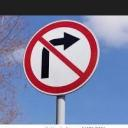NoVirarDireita: (24, 20, 101, 98)
